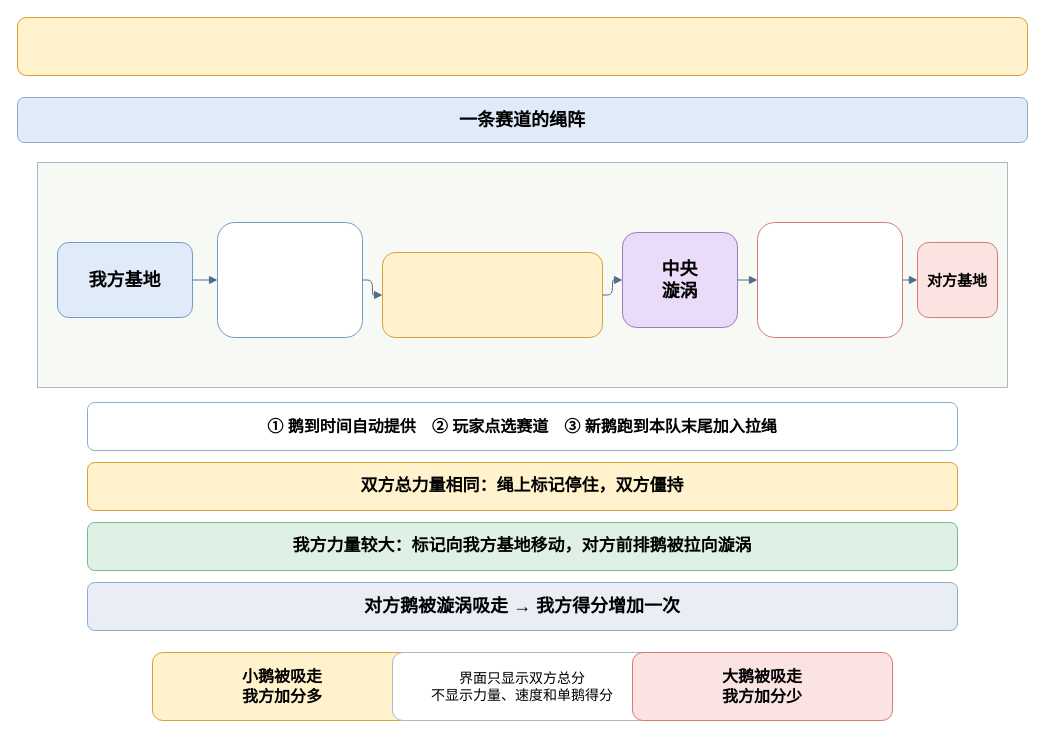
Some shapes in this 1045 by 738 pixel diagram are drawn without their labels. The centre of each missing label's shape, as x and y in pixels:
"∞ 无限长绳 绳上有标记" belongs at [492,295].
"大鹅冲刺｜鹅到队尾拉绳，对方进漩涡，我方得分" belongs at [522,46].
"对方鹅队 前排鹅靠近漩涡" belongs at [829,280].
"我方鹅队 新鹅到队尾拉绳" belongs at [289,280].
